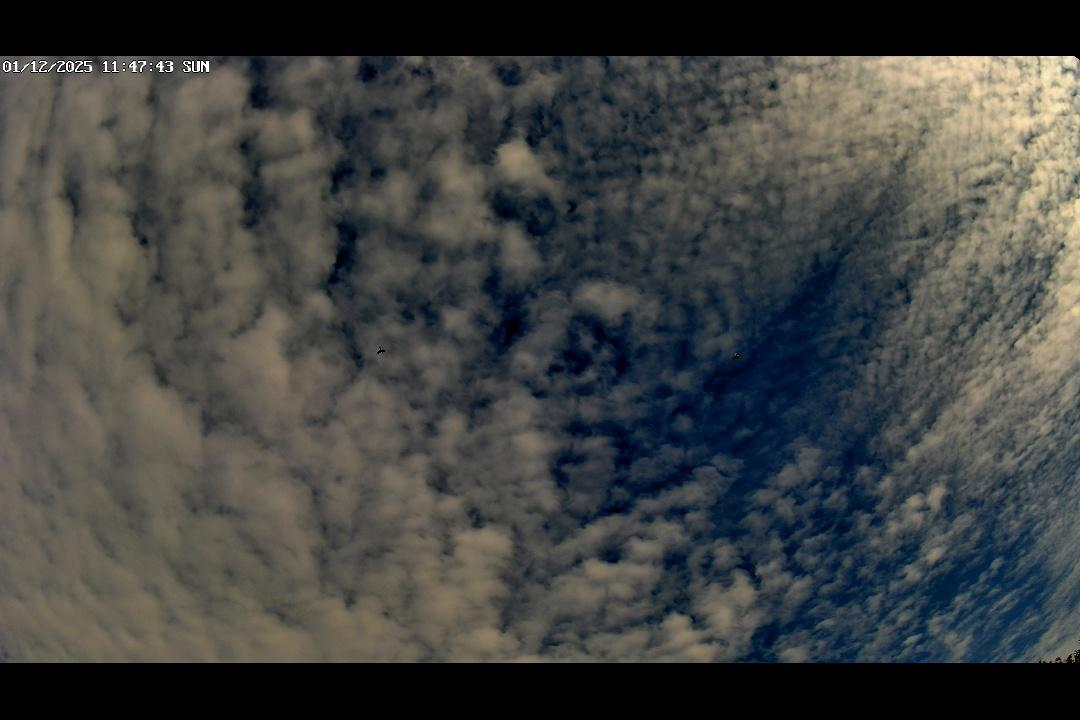WildLife: (360, 338, 399, 361)
